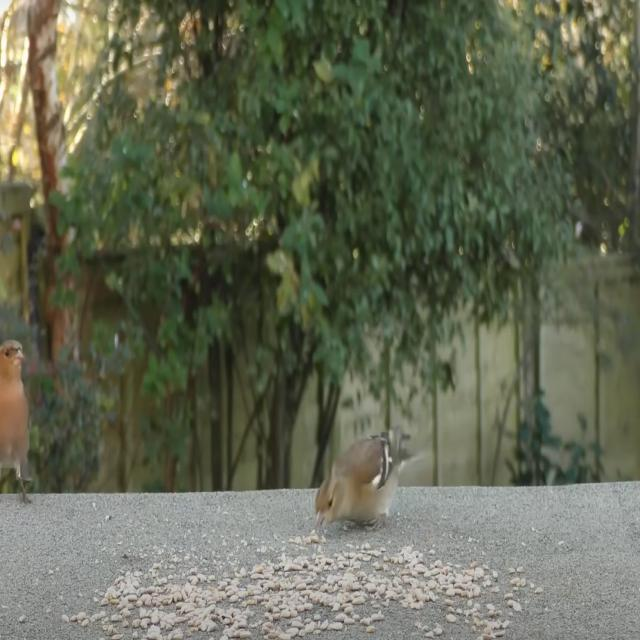beak: (313, 509, 328, 537), (11, 346, 27, 364)
bird: (309, 425, 426, 536), (0, 335, 39, 504)
